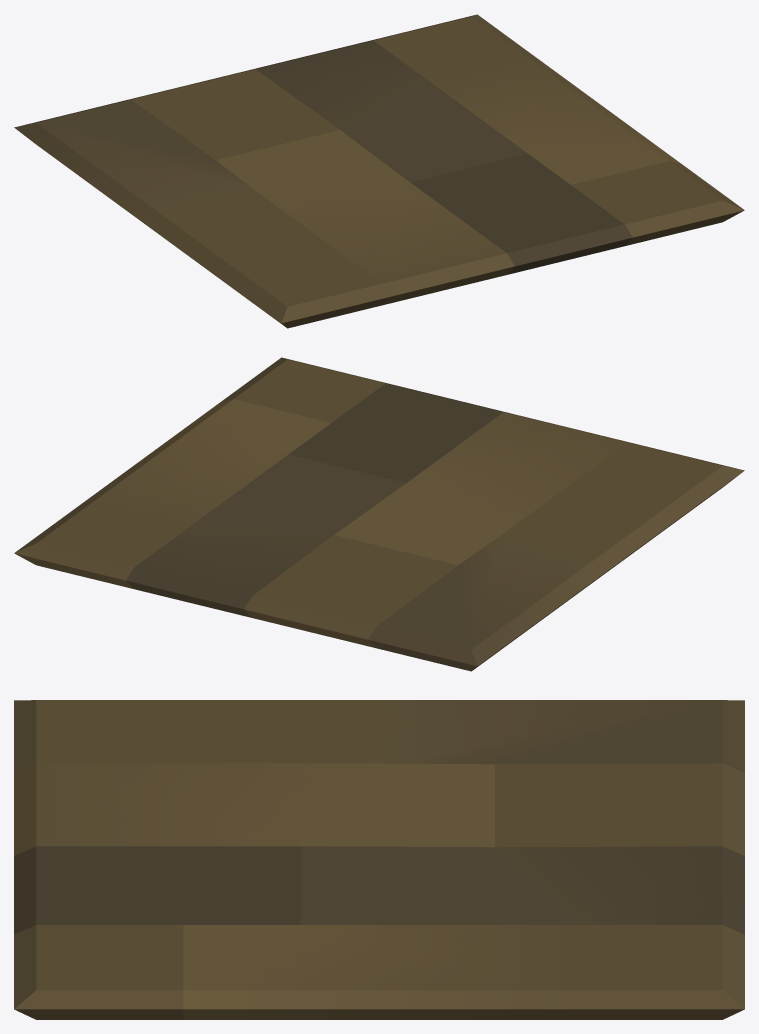
Rendered from parkett_LOD_setup.fbx.
3 views of the same model, one above another, from view 1: azimuth 30°, elevation 25°; view 2: azimuth 150°, elevation 25°; view 3: azimuth 270°, elevation 25° (orthographic). The views are drawn at different scales.
Parts seen in each view (by area): view 1: parkett_LOD0; view 2: parkett_LOD0; view 3: parkett_LOD0.
Part boxes in pixels (left/top/right/bottom): parkett_LOD0: left=14, top=14, right=744, bottom=328; parkett_LOD0: left=14, top=357, right=744, bottom=671; parkett_LOD0: left=14, top=700, right=744, bottom=1019.
Size of what is drawn, in the model's own units: 106 by 4.77 by 106.
